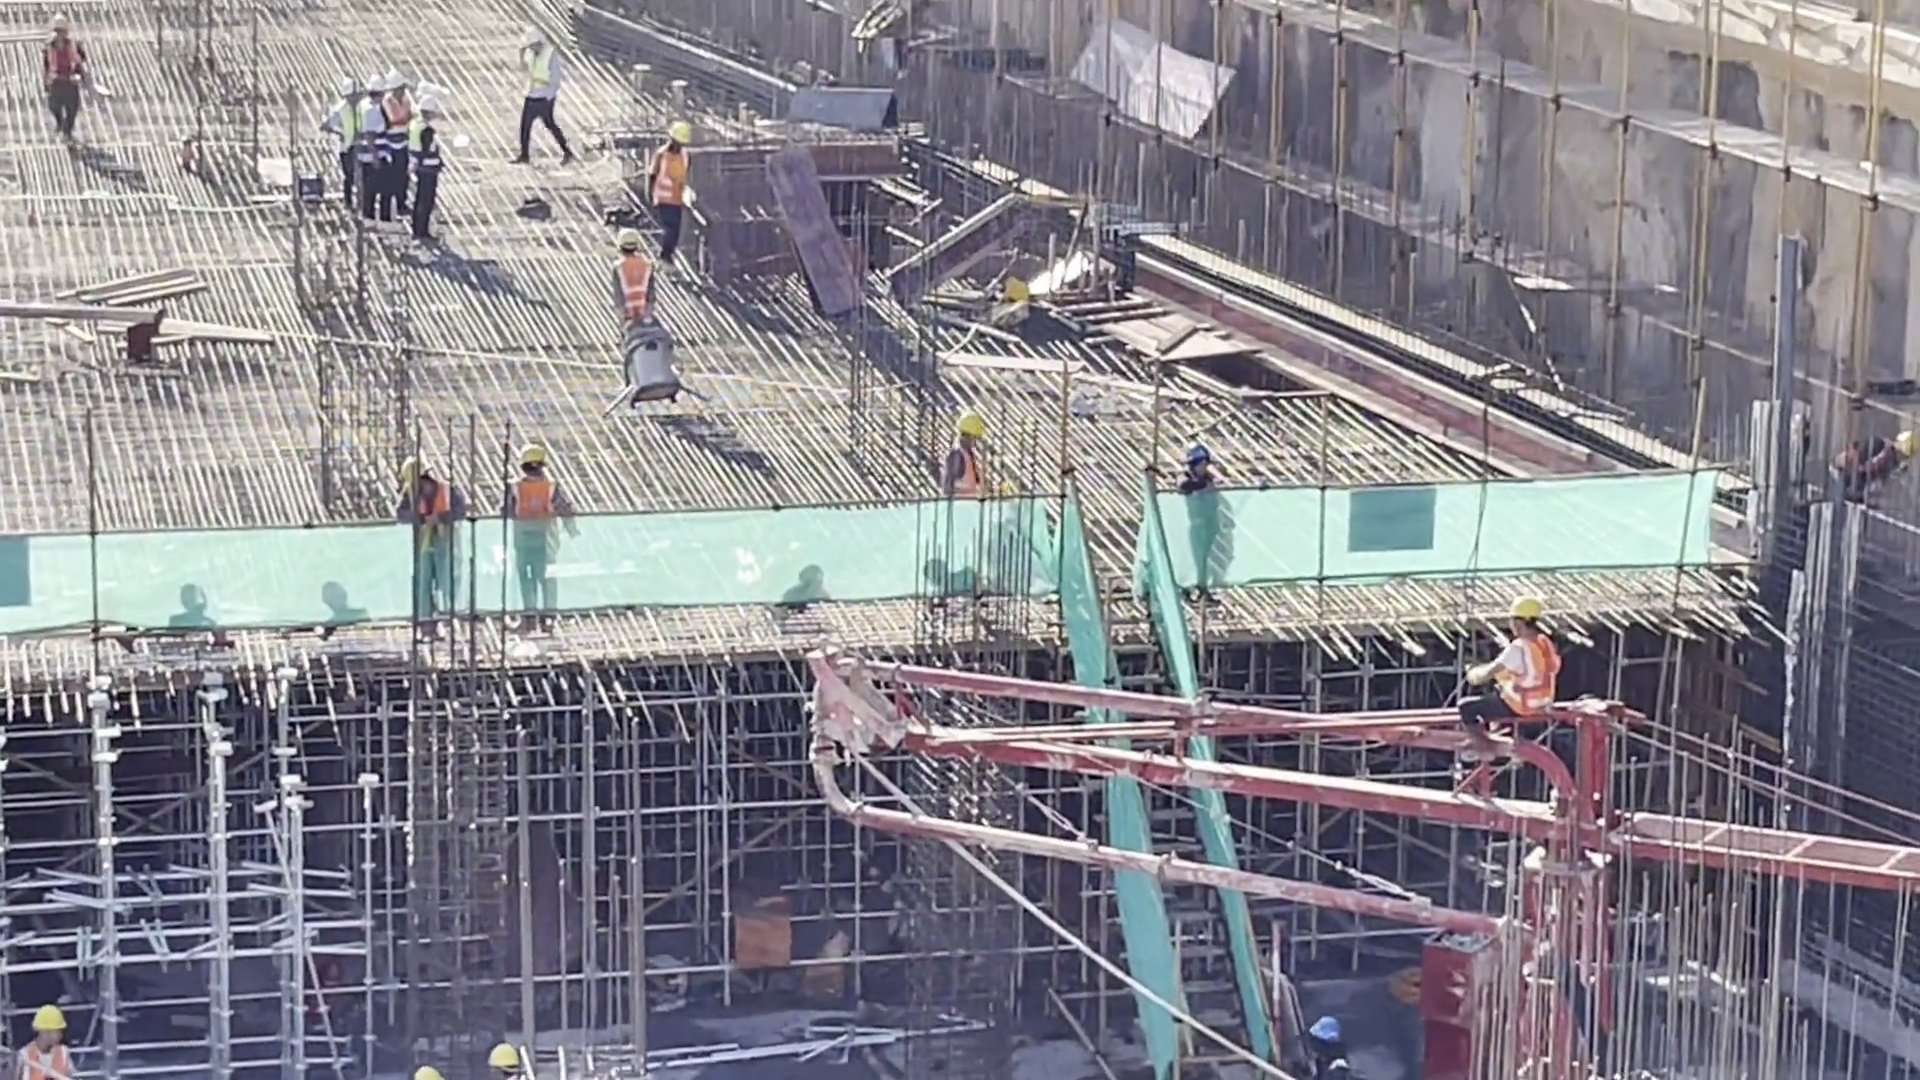helmet: (340, 66, 411, 99), (477, 1033, 522, 1080), (1508, 591, 1543, 633), (947, 404, 989, 438), (395, 449, 431, 488), (1180, 444, 1215, 477), (31, 1005, 68, 1030), (613, 223, 642, 250), (517, 443, 546, 469)
person: (1455, 586, 1563, 782), (336, 67, 445, 232), (496, 443, 576, 627), (939, 409, 1006, 588), (398, 454, 461, 623), (1171, 442, 1228, 604), (508, 27, 567, 169), (34, 7, 95, 139), (608, 225, 671, 344), (9, 995, 87, 1080), (656, 112, 681, 273)
vest: (1486, 634, 1555, 710), (618, 259, 656, 328), (503, 478, 562, 519)
